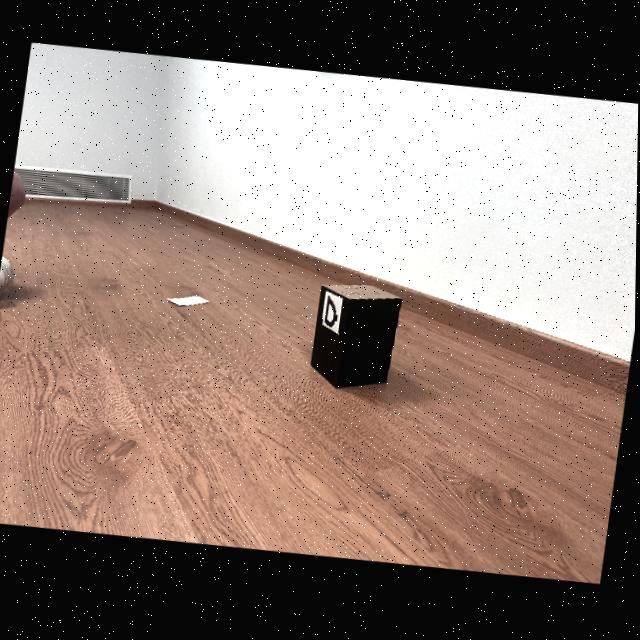D: (326, 297, 337, 328)
